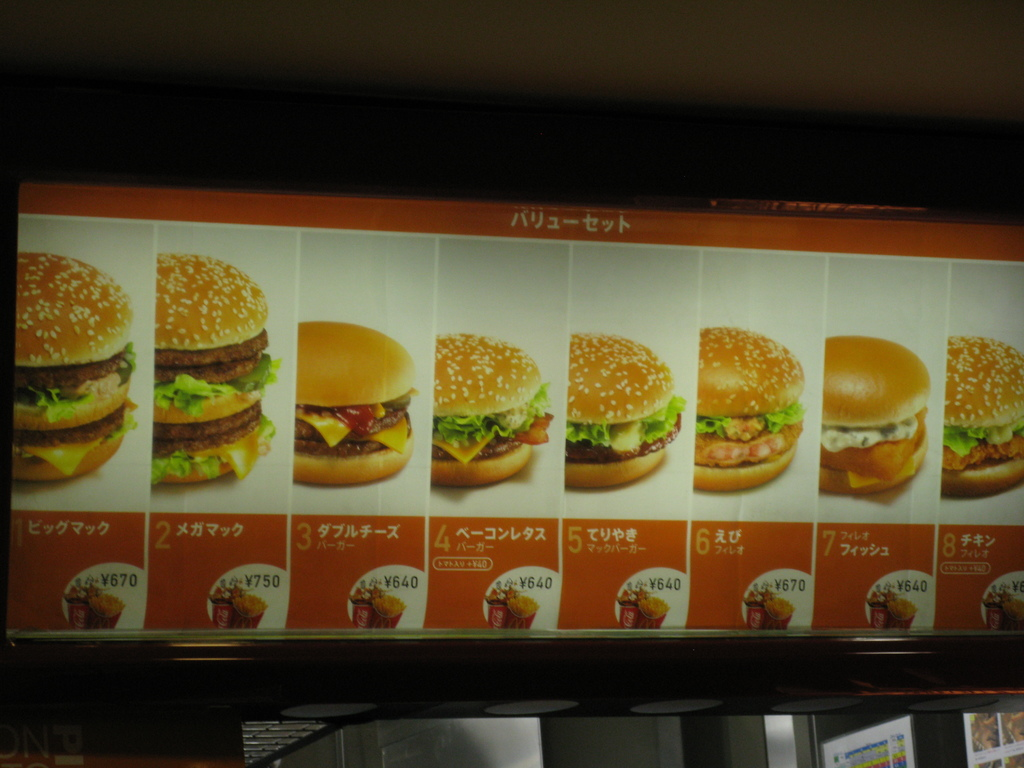Hamburger: (152, 251, 278, 483), (16, 252, 135, 482), (289, 321, 417, 486), (430, 332, 553, 489), (691, 325, 803, 493), (567, 334, 682, 490), (822, 338, 928, 498), (941, 337, 1023, 499)
